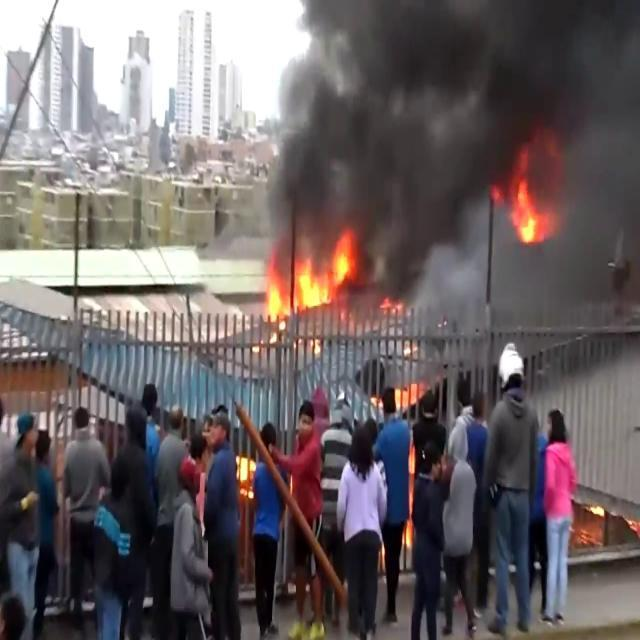Fire: (261, 236, 359, 330), (508, 164, 550, 246)
Smoke: (256, 0, 640, 260)
